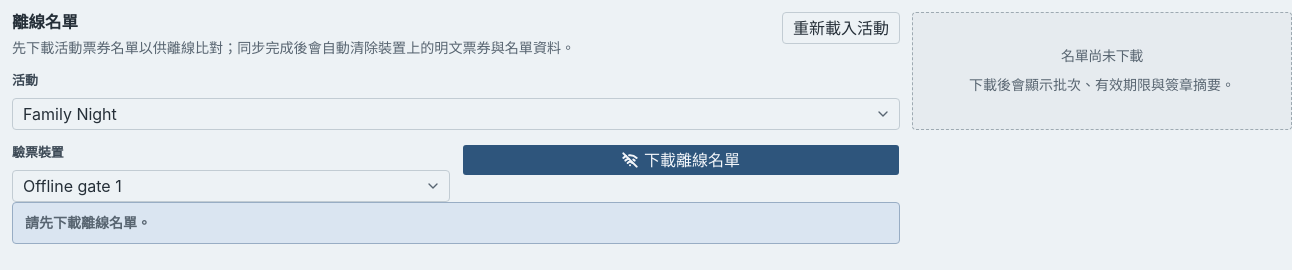
OfflinePackageStep — download flow › downloads a package, saves it, and reports it ready
Expected: the text "Family Night" is shown, [23, 102, 117, 126]
Click the button "下載離線名單" at (681, 160), box [462, 144, 900, 176]
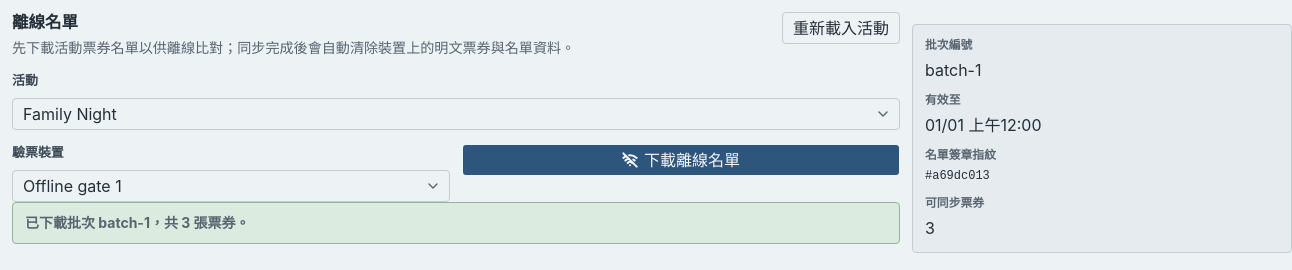
Result: the text "已下載批次 batch-1，共 3 張票券。" is shown at [25, 214, 250, 231]
